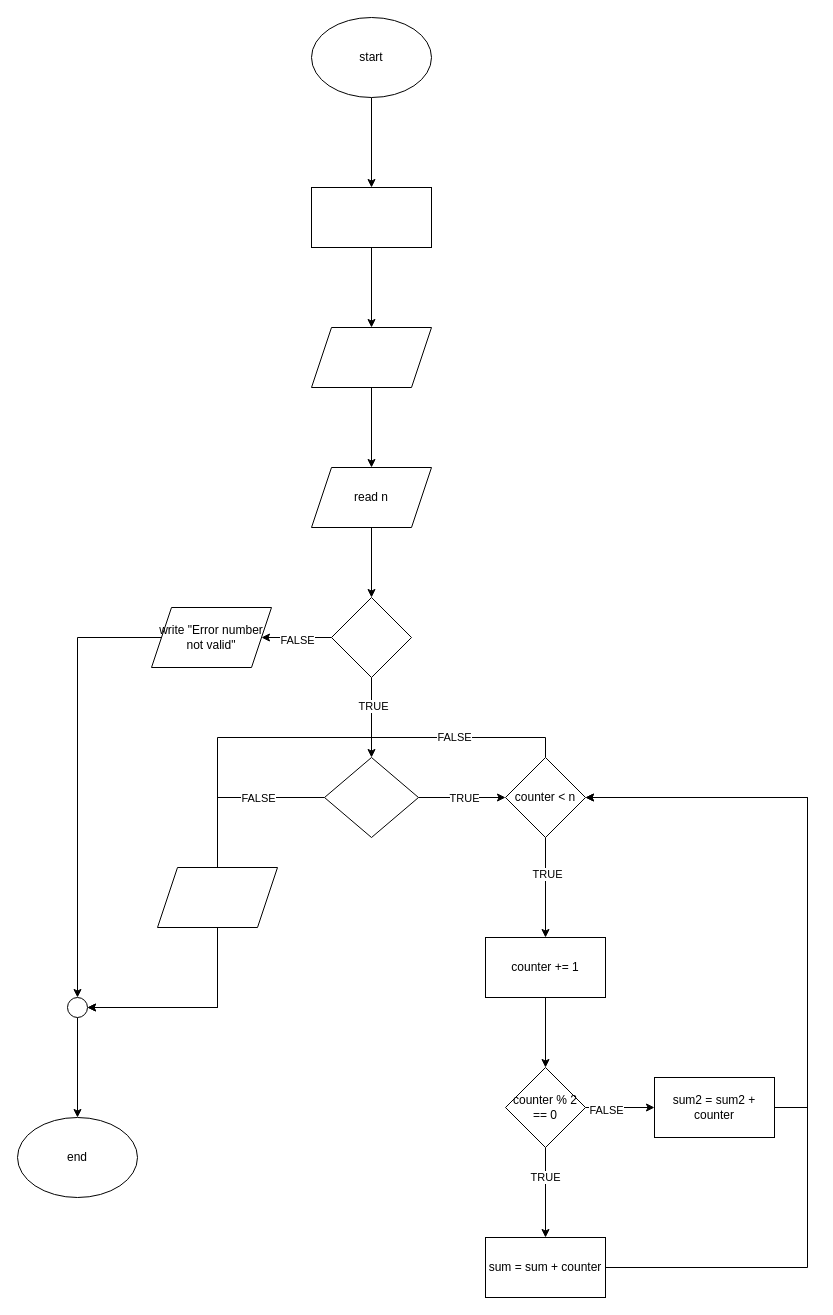
Image size: 833x1315. Some labels were removed from this diagram. Each missing label, with the box of its shape:
1 <= n <= 100: (324, 756, 418, 838)
n > 0 AND n % 1 ==0: (330, 596, 412, 678)
sum1 = 0, sum2 = 0, counter = 0: (310, 186, 432, 248)
write "Put your number here": (310, 326, 432, 388)
write sum1, sum2: (156, 866, 278, 928)
